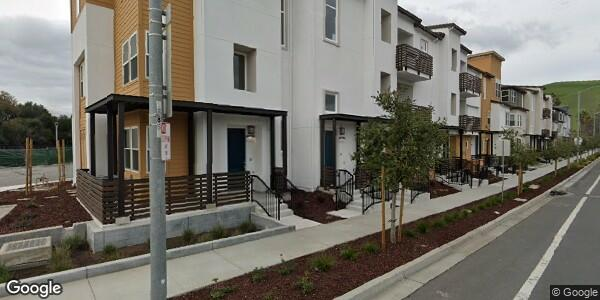Steel_Pole: (143, 2, 175, 300)
